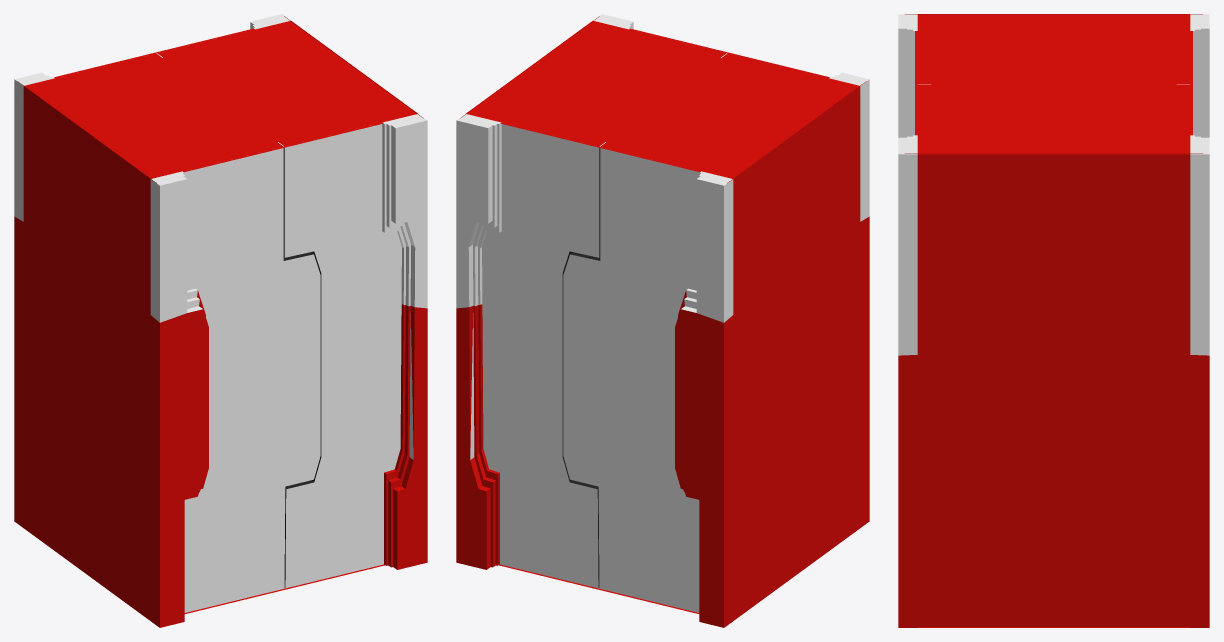
File: porta.fbx
3 views of the same model, side by side, from view 1: azimuth 30°, elevation 25°; view 2: azimuth 150°, elevation 25°; view 3: azimuth 270°, elevation 25° (orthographic). The views are drawn at different scales.
Parts seen in each view (by area): view 1: Porta; view 2: Porta; view 3: Porta.
Part boxes in pixels (x1,y1,x2,y2): Porta: [14, 14, 427, 627]; Porta: [456, 14, 869, 627]; Porta: [898, 14, 1209, 627].
Size of the model in its own units: 200 by 316 by 188.
